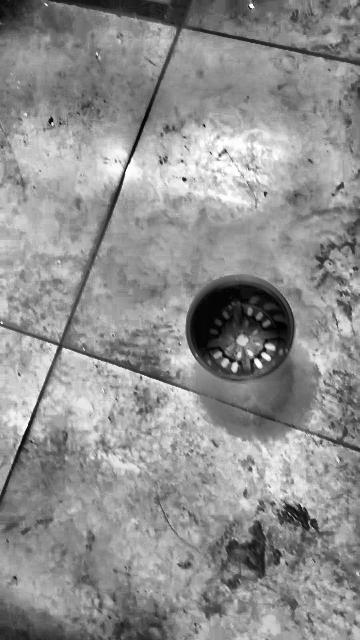pot: (186, 277, 295, 381)
